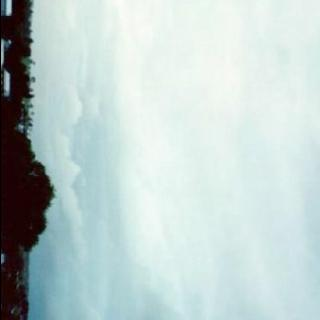Stratocumulus: (37, 0, 320, 320)
